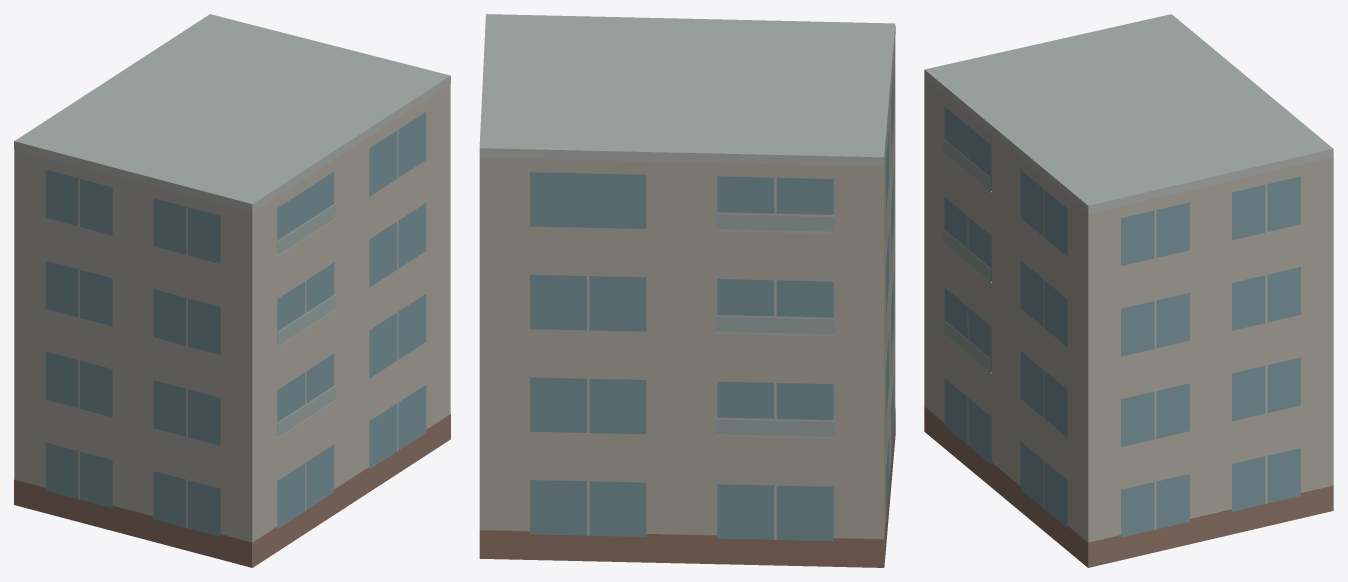
The model's file is survey-upis-32869616.glb.
The picture shows the model from 3 angles, left to right: view 1: azimuth 30°, elevation 25°; view 2: azimuth 150°, elevation 25°; view 3: azimuth 270°, elevation 25°; orthographic projection. The views are drawn at different scales.
Visible parts, largest first — view 1: survey-upis-32869616.tmp; view 2: survey-upis-32869616.tmp; view 3: survey-upis-32869616.tmp.
Boxes of the visible parts, x1,y1,x2,y2 form: survey-upis-32869616.tmp: [14, 14, 450, 567]; survey-upis-32869616.tmp: [479, 14, 895, 567]; survey-upis-32869616.tmp: [924, 14, 1333, 567].
Size of the model in its own units: 12.11 by 10.65 by 10.92.
